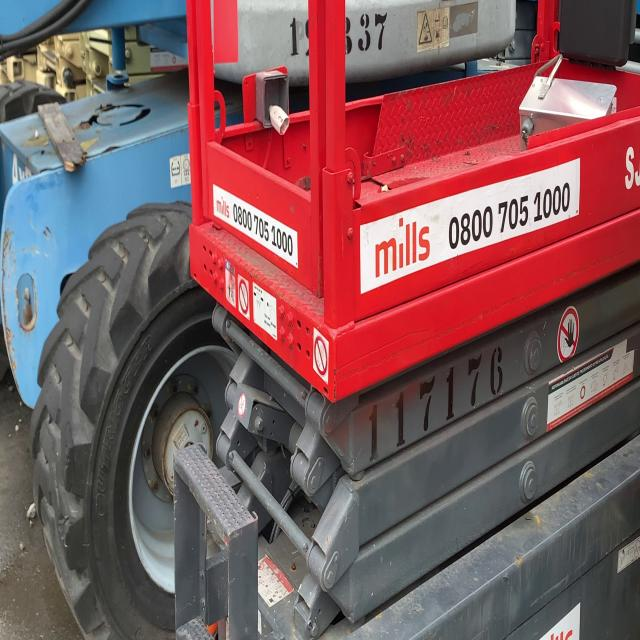Adesivo Longo: (359, 155, 582, 298)
Adesivos: (212, 181, 299, 270)
